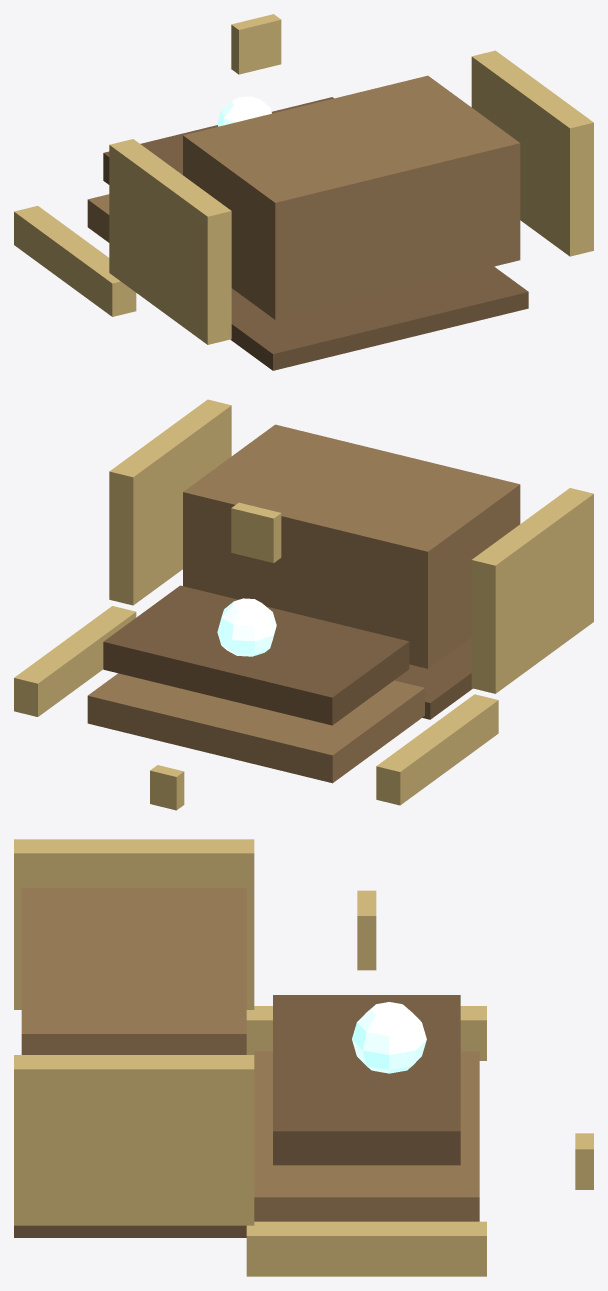
The model's file is chest.glb.
The picture shows the model from 3 angles, top to bottom: view 1: azimuth 30°, elevation 25°; view 2: azimuth 150°, elevation 25°; view 3: azimuth 270°, elevation 25°; orthographic projection. The views are drawn at different scales.
Parts seen in each view (by area): view 1: chestBody, lid; view 2: chestBody, lid; view 3: chestBody, lid.
Boxes of the visible parts, bbox=[...] form: chestBody: bbox=[109, 14, 593, 370]; lid: bbox=[14, 96, 333, 316]; chestBody: bbox=[109, 399, 593, 719]; lid: bbox=[14, 585, 498, 810]; chestBody: bbox=[14, 839, 376, 1237]; lid: bbox=[246, 995, 593, 1276].
Bounding box in the file's own units: 0.725 × 0.41 × 0.7725.
